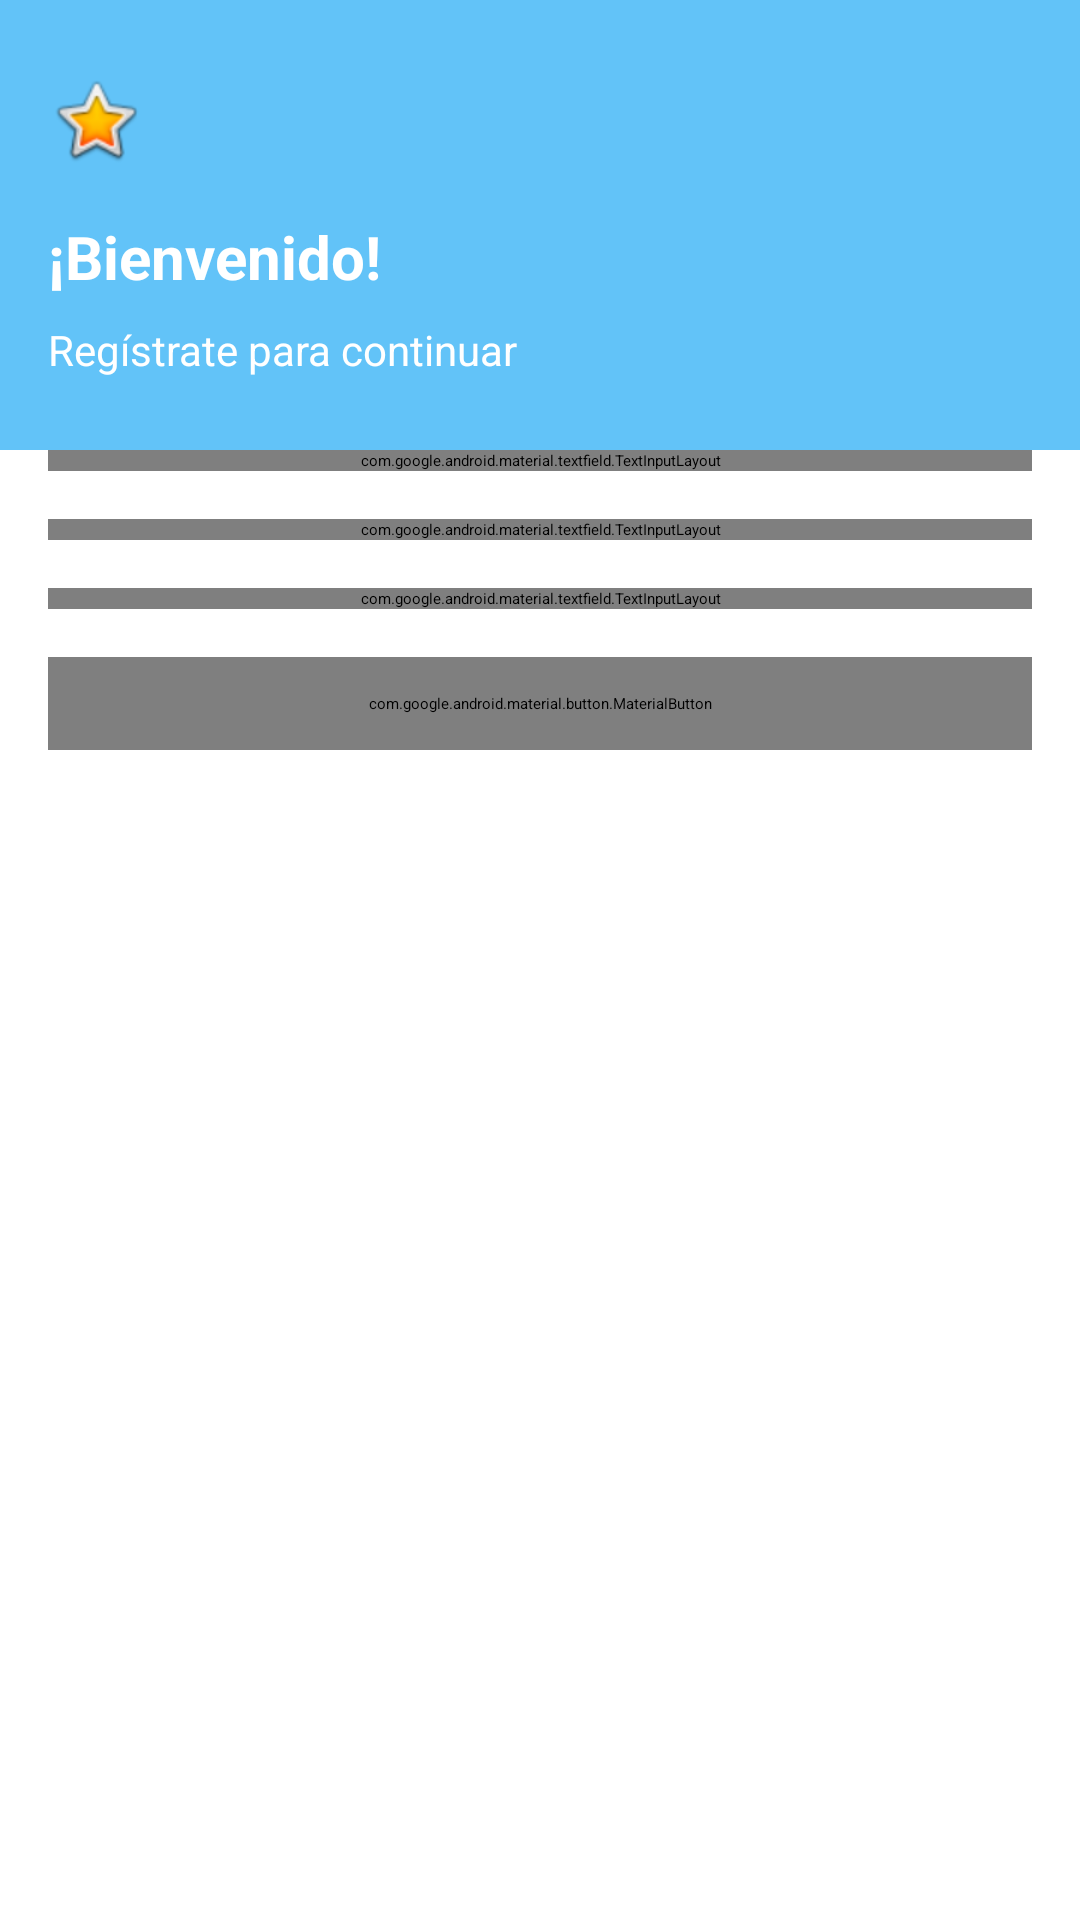

Screen size 1080w x 1920h. Icon name, then its center in pixels as (x=x, y=y):
star on: (x=97, y=121)
